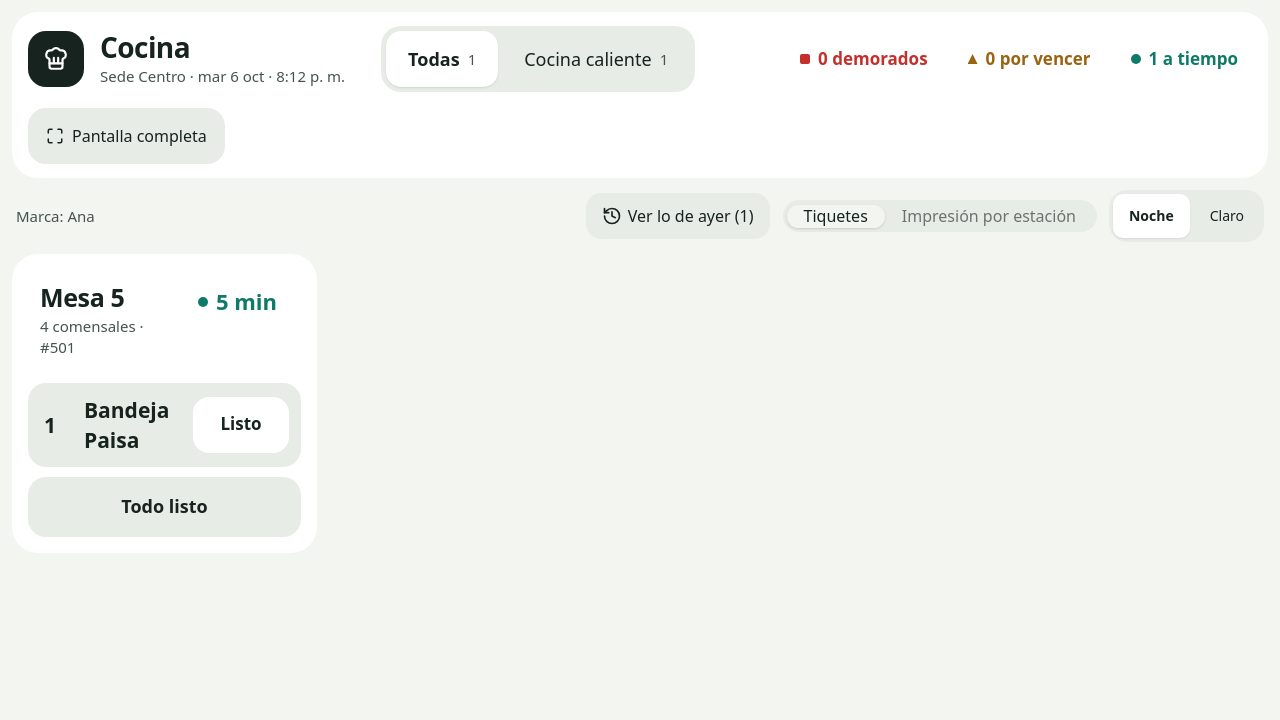
Scenario: KdsPage › lo «de ayer» se aparta por defecto y se ve con el botón
Check: the text "Bandeja Paisa" is shown, box [84,394,181,454]
Check: the text "sancocho olvidado" is not shown
Click the button "Ver lo de ayer (1)".
click(678, 216)  # box [585,192,771,240]
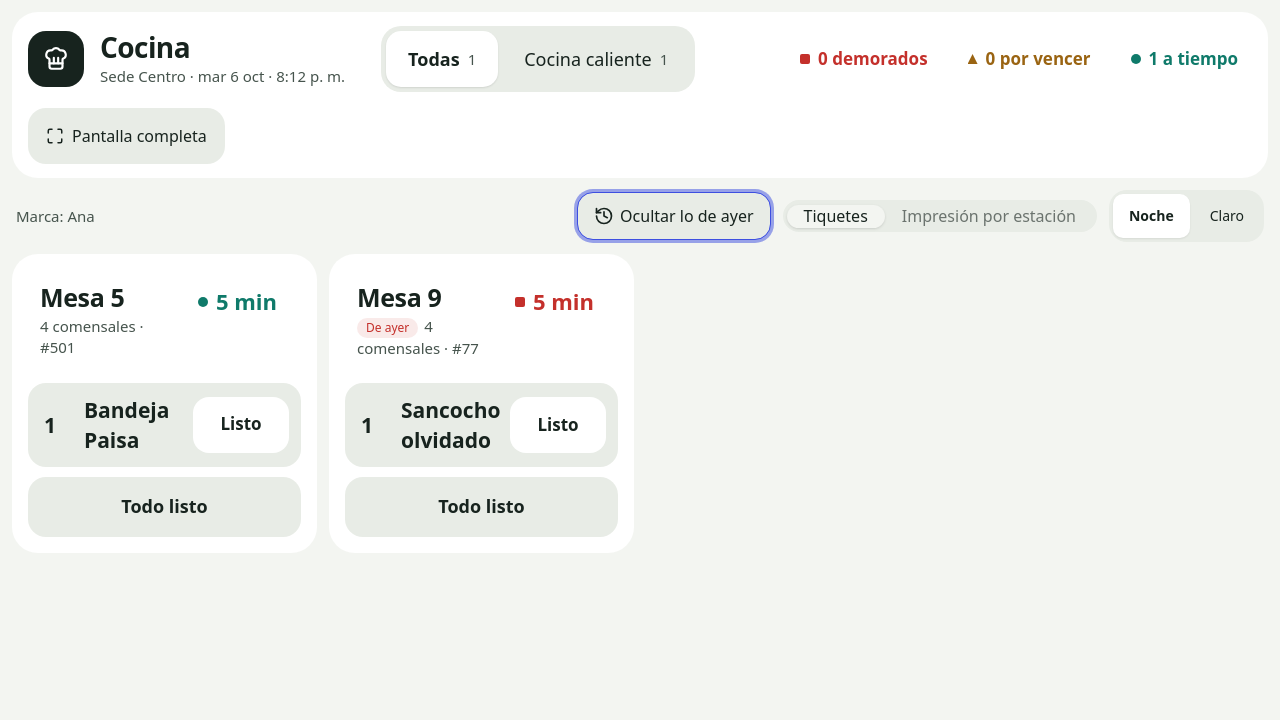
Check: the text "Sancocho olvidado" is shown, box [401,395,498,455]
Check: the text "De ayer" is shown, box [357,318,418,338]
